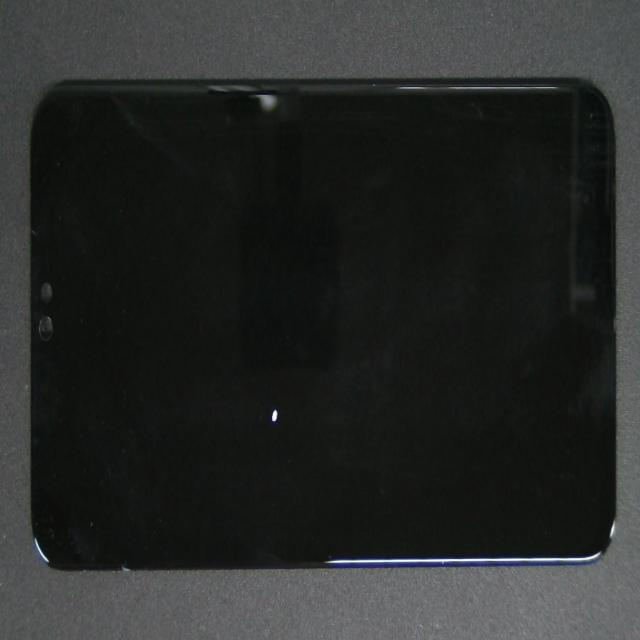Dislodged Screen: (260, 395, 298, 440)
